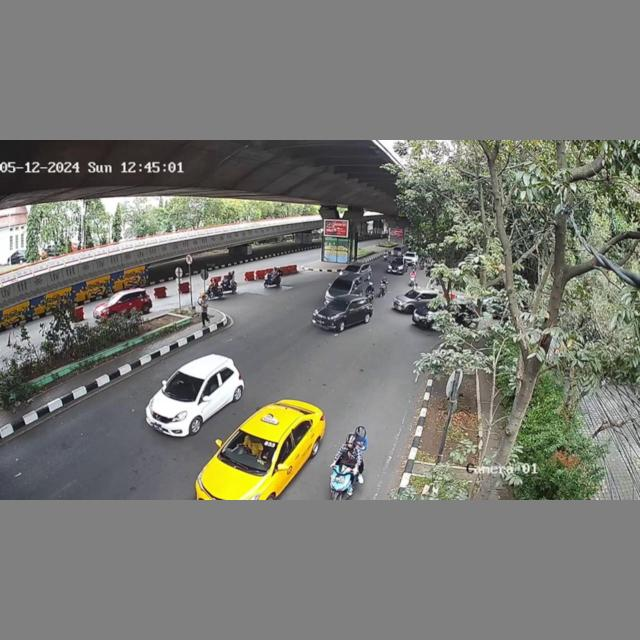windshield: (218, 429, 277, 475), (160, 369, 202, 402)
